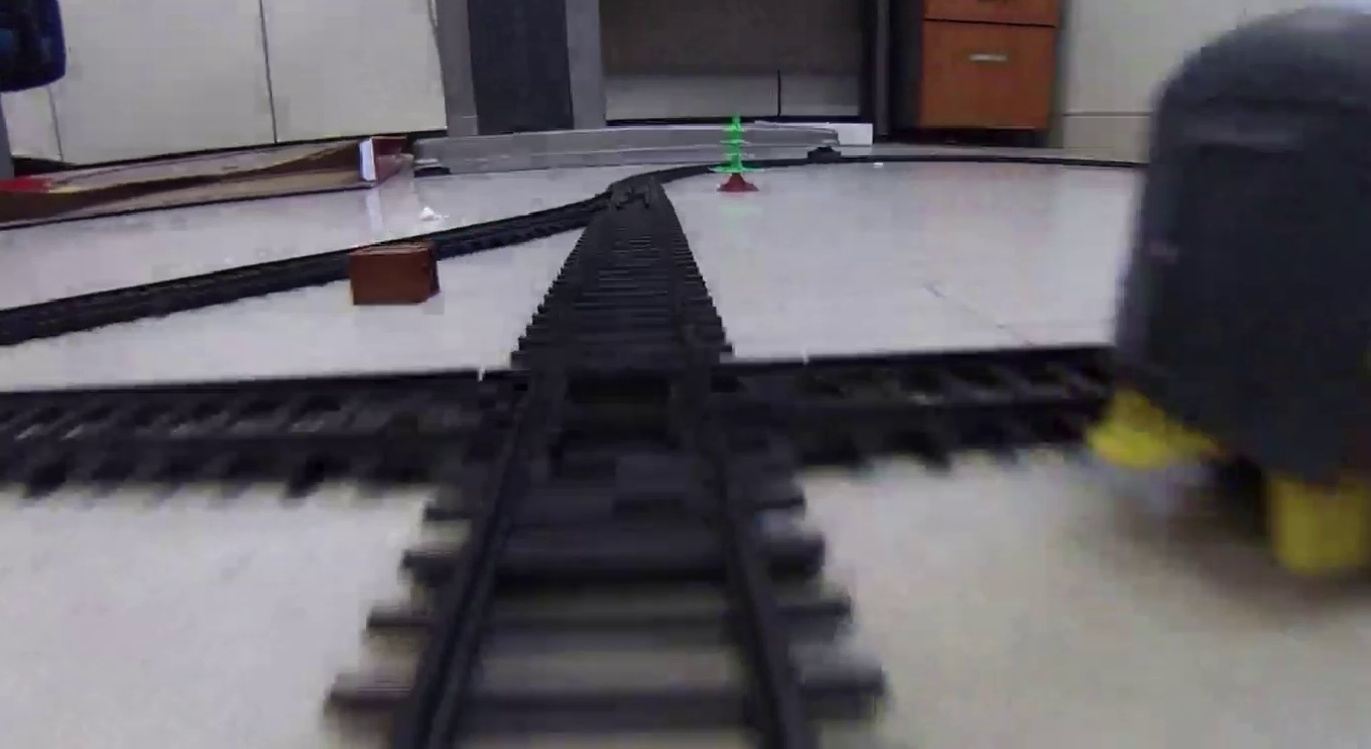box: (352, 246, 437, 304)
tree: (708, 113, 764, 192)
